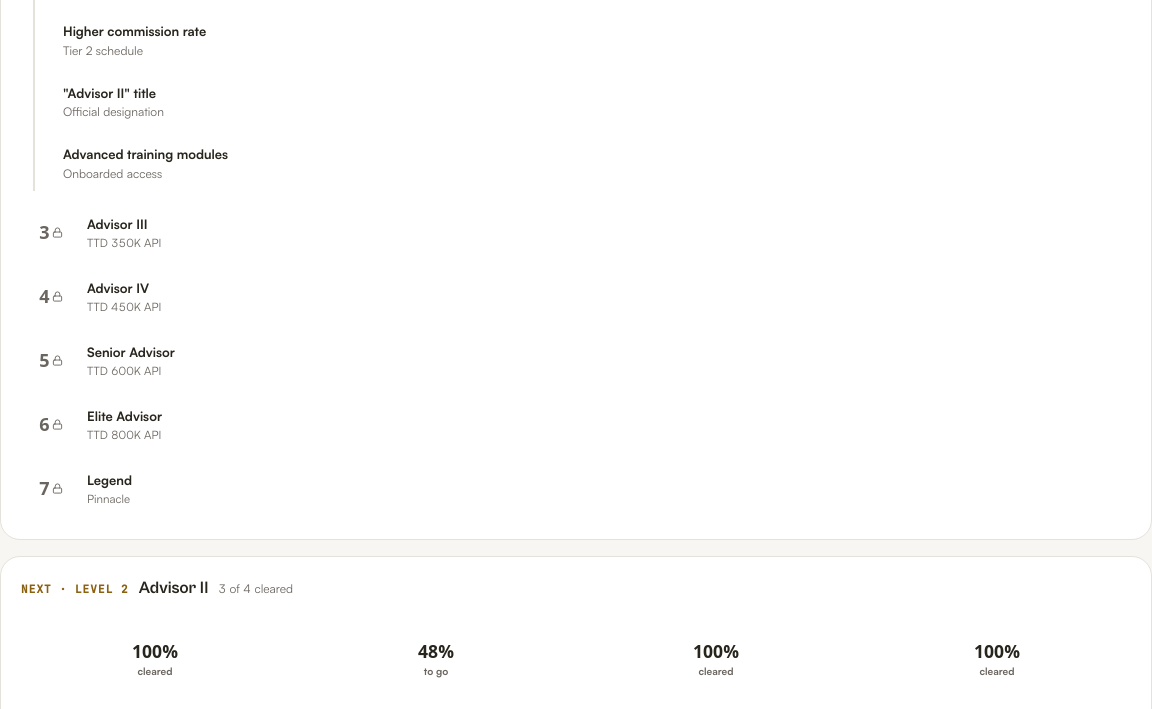
Scenario: FrCareer — screen › phone: a coin expands its level inline (aria-expanded) and there is no inspector
(page scrolled)
Click the button with test id "fr-career-coin-5". click: (131, 352)
box: [21,331,1131,391]
(page scrolled)
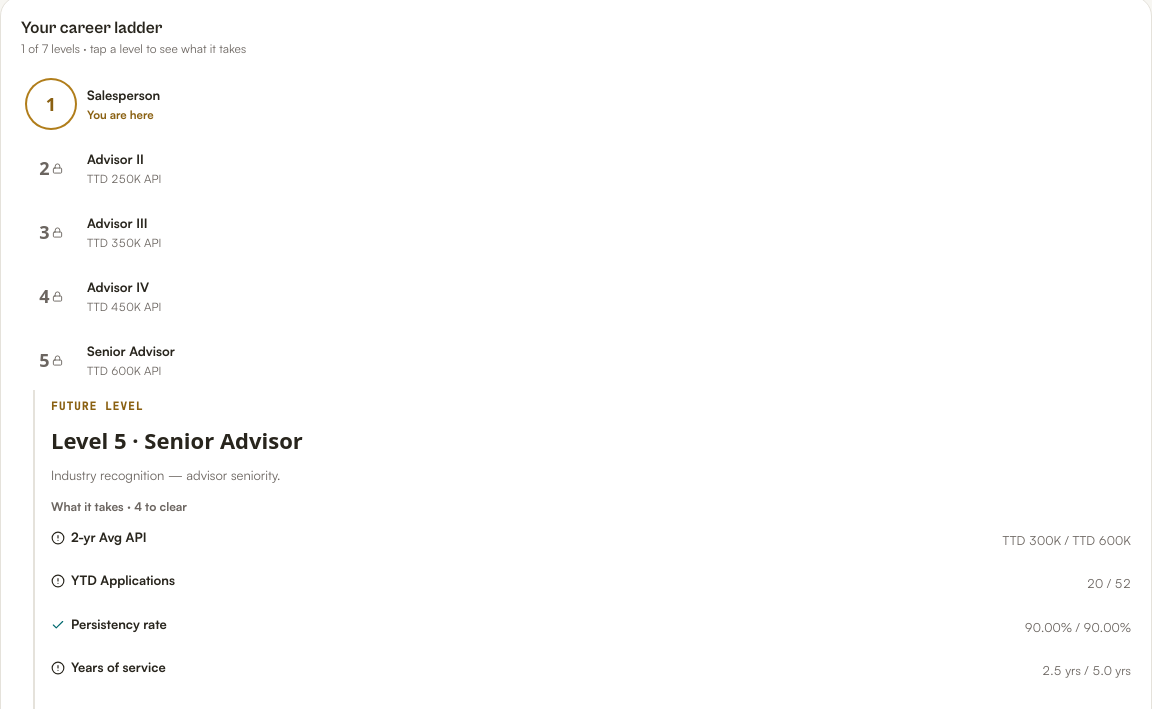
expect the button with test id "fr-career-coin-5" is expanded: met, box [21,330,1131,390]
